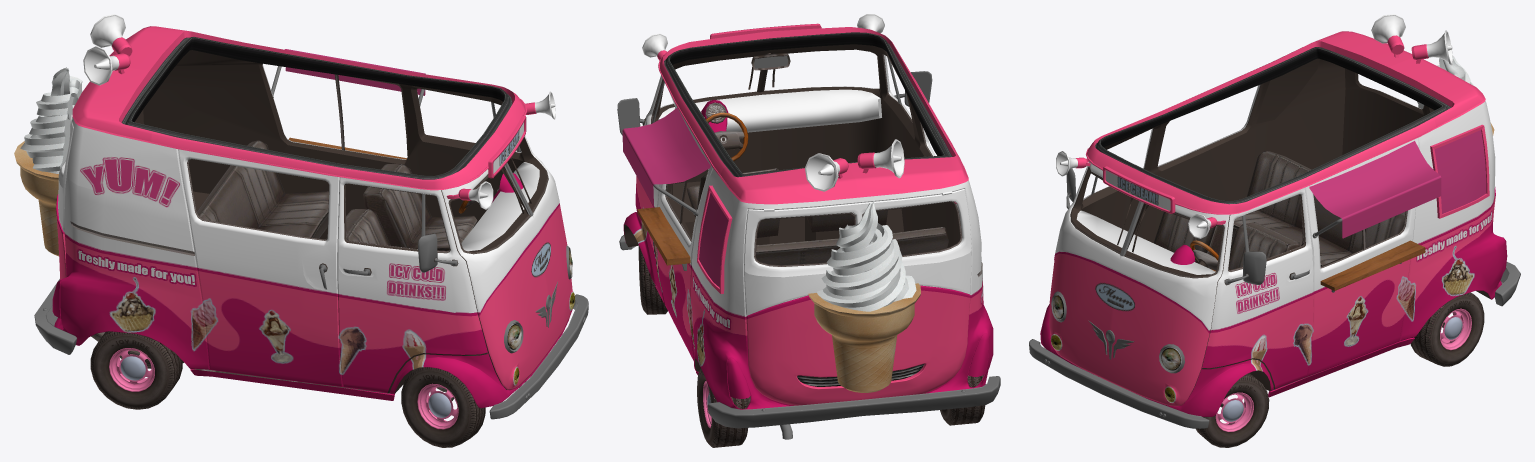
Rendered from Van.glb.
The picture shows the model from 3 angles, left to right: view 1: azimuth 30°, elevation 25°; view 2: azimuth 150°, elevation 25°; view 3: azimuth 270°, elevation 25°; orthographic projection. The views are drawn at different scales.
Visible parts, largest first — view 1: node_id143, node_id145, node_id52, node_id147, node_id124, node_id105, node_id155, node_id98, node_id126, node_id78, node_id120, node_id103 (+9 smaller); view 2: node_id143, node_id145, node_id124, node_id120, node_id147, node_id128, node_id131, node_id52, node_id78, node_id73, node_id138, node_id155 (+12 smaller); view 3: node_id143, node_id145, node_id52, node_id131, node_id147, node_id73, node_id126, node_id78, node_id91, node_id138, node_id155, node_id84 (+12 smaller).
Part boxes in pixels (<box>): node_id143: <box>52,26,572,408</box>; node_id145: <box>135,50,547,393</box>; node_id52: <box>197,140,477,250</box>; node_id147: <box>121,37,512,179</box>; node_id124: <box>20,67,82,173</box>; node_id105: <box>94,333,170,406</box>; node_id155: <box>70,74,548,255</box>; node_id98: <box>403,368,472,444</box>; node_id126: <box>489,294,588,419</box>; node_id78: <box>83,14,488,169</box>; node_id120: <box>14,141,58,256</box>; node_id103: <box>109,346,157,391</box>; node_id143: <box>623,27,993,409</box>; node_id145: <box>624,44,960,371</box>; node_id124: <box>817,201,916,311</box>; node_id120: <box>808,283,920,392</box>; node_id147: <box>664,32,952,177</box>; node_id128: <box>707,376,1000,428</box>; node_id131: <box>622,107,710,205</box>; node_id52: <box>686,162,948,265</box>; node_id78: <box>805,139,904,191</box>; node_id73: <box>699,192,728,287</box>; node_id138: <box>637,207,690,265</box>; node_id155: <box>651,54,982,276</box>; node_id143: <box>1040,31,1507,416</box>; node_id145: <box>1071,58,1490,405</box>; node_id52: <box>1153,150,1405,269</box>; node_id131: <box>1309,141,1441,238</box>; node_id147: <box>1095,47,1451,204</box>; node_id73: <box>1434,130,1486,213</box>; node_id126: <box>1029,339,1209,428</box>; node_id78: <box>1371,14,1452,65</box>; node_id91: <box>1425,296,1483,363</box>; node_id138: <box>1320,240,1425,290</box>; node_id155: <box>1070,84,1407,278</box>; node_id84: <box>1204,379,1267,445</box>.
Bounding box in the file's own units: 0.7818 × 0.511 × 0.8006.
Materials: 56 (56 with a texture image).
